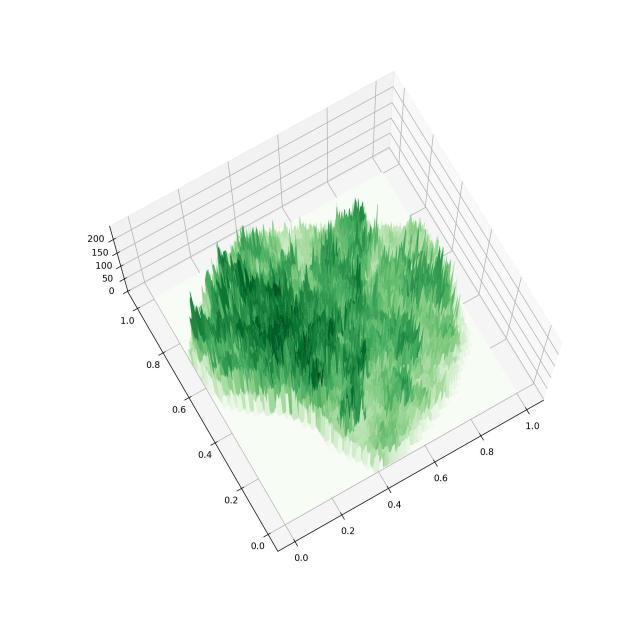spruce: (61, 45, 577, 623)
